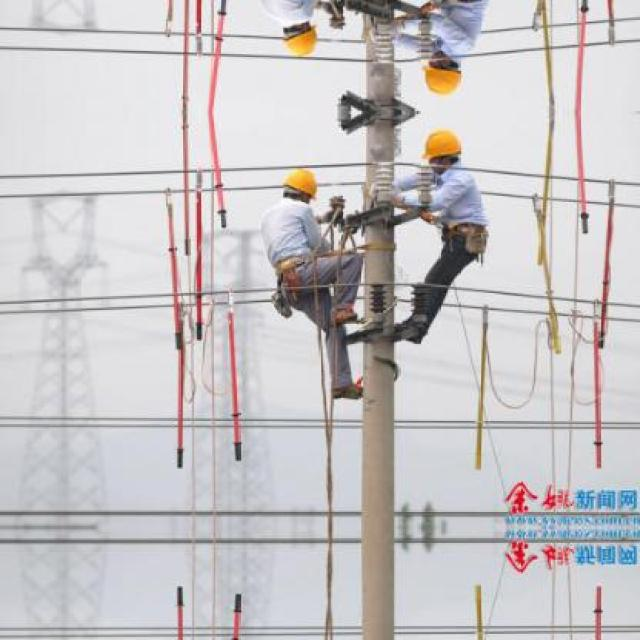helmet: (418, 123, 462, 176), (418, 49, 462, 102), (276, 166, 318, 209), (276, 16, 318, 58)
